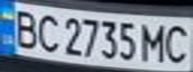2: (57, 14, 84, 57)
3: (100, 17, 121, 61)
5: (115, 18, 142, 62)
7: (78, 16, 100, 58)
B: (9, 7, 42, 50)
C: (163, 20, 193, 65), (33, 10, 63, 53)
M: (139, 20, 172, 64)
